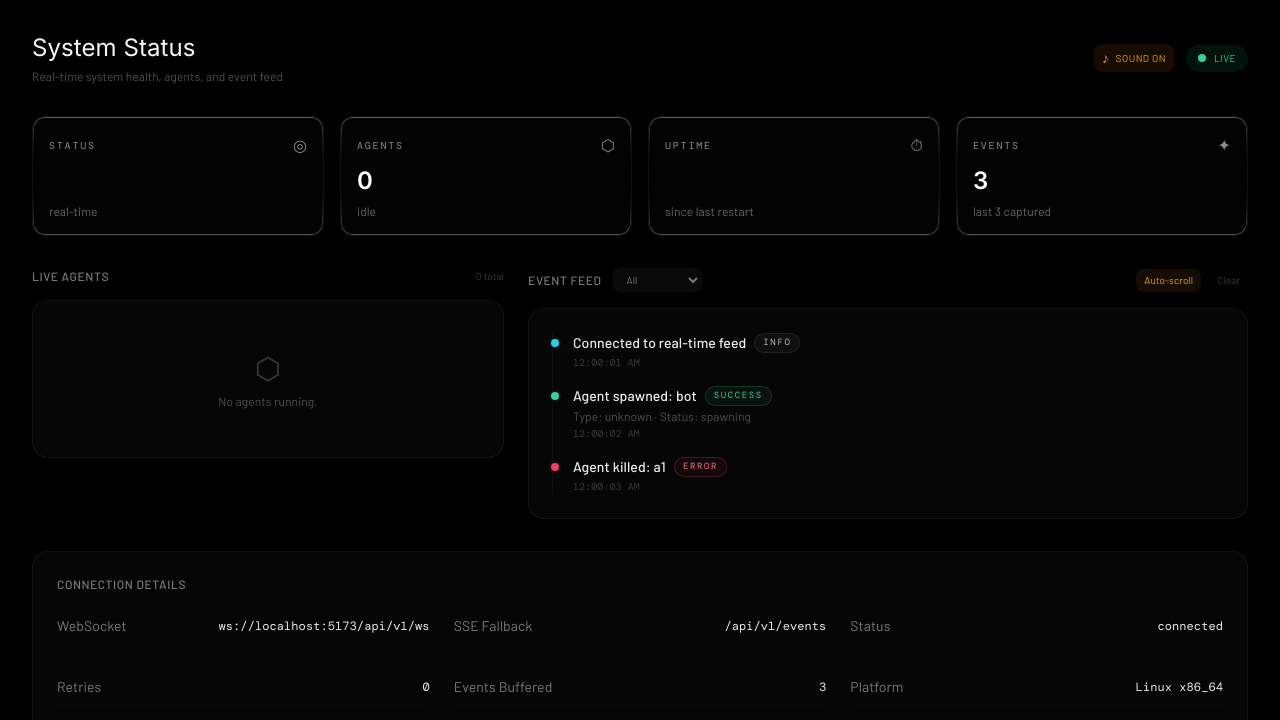
Test: Status page — event feed › filters events by type using dropdown
// Select "Spawns" filter
Step 1. Select "Spawns" in the dropdown → (658, 280), box [614,268,702,292]
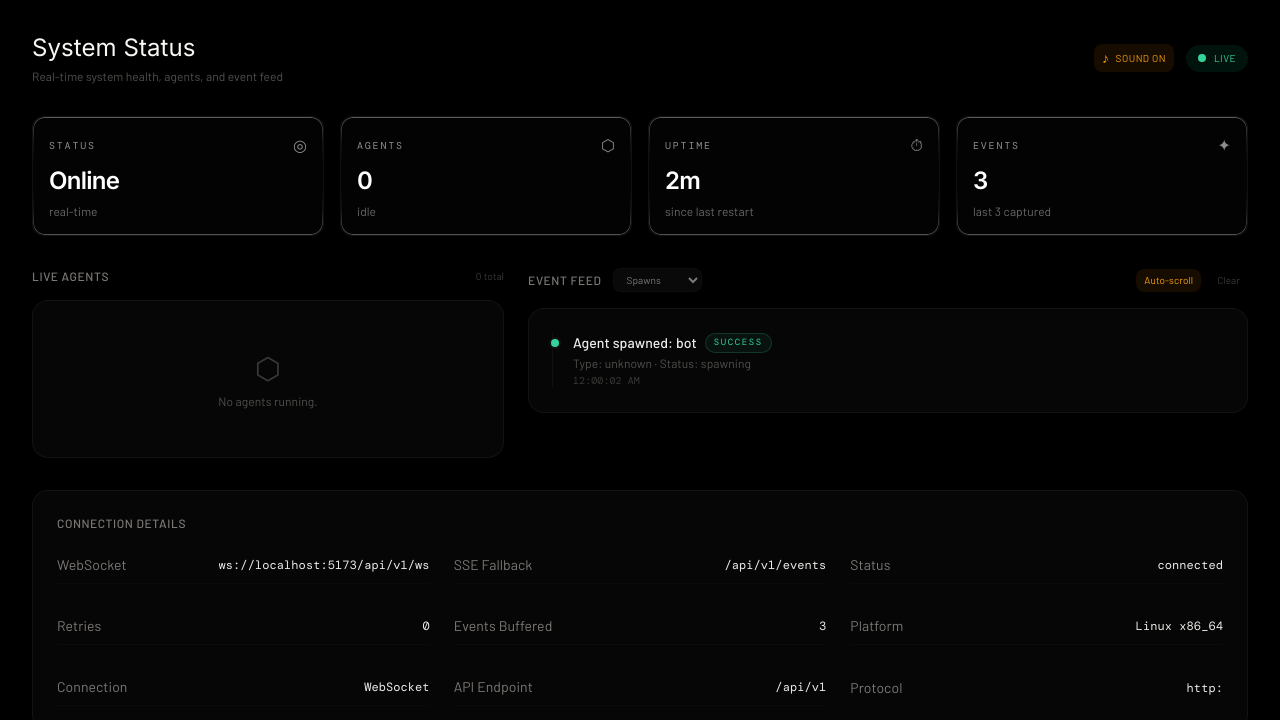
Expected: the text "Agent spawned: bot" is shown, [573,333,697,353]
Now the text "Connected to real-time feed" is gone
Now the text "Agent killed: a1" is gone
